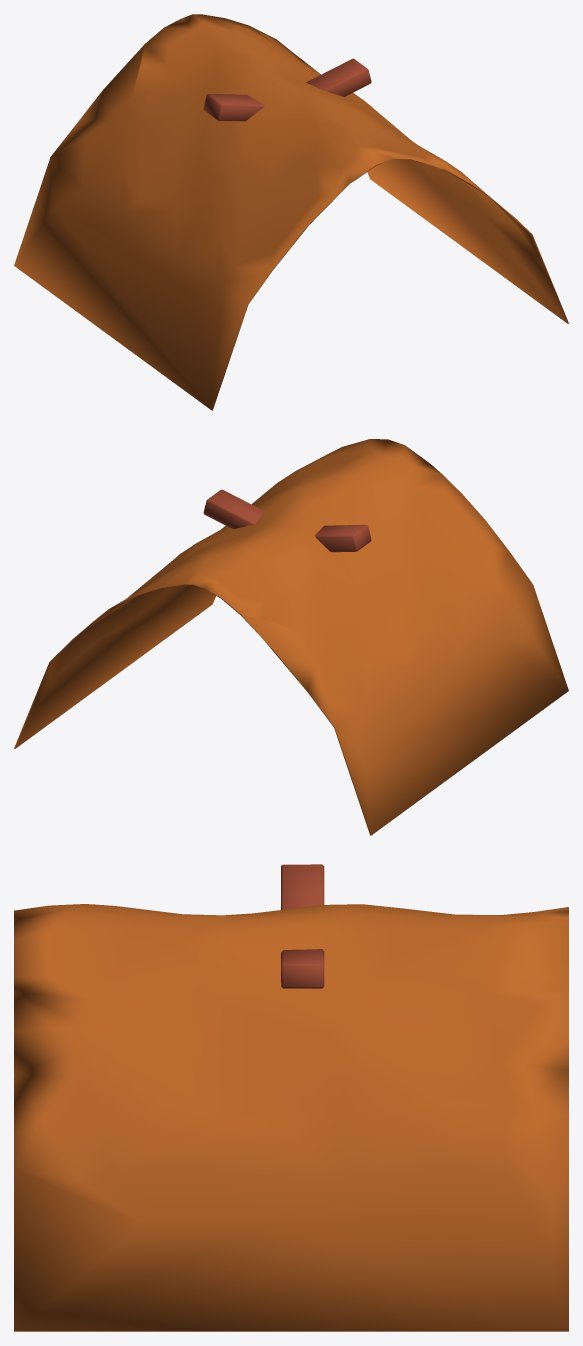
The model's file is bat_o_cho.glb.
3 renders of one model, top to bottom at view 1: azimuth 30°, elevation 25°; view 2: azimuth 150°, elevation 25°; view 3: azimuth 270°, elevation 25°, orthographic. The views are drawn at different scales.
Parts seen in each view (by area): view 1: bat_o_cho; view 2: bat_o_cho; view 3: bat_o_cho.
Boxes of the visible parts, box(x1,y1,x2,y2) form: bat_o_cho: box(14, 14, 568, 410); bat_o_cho: box(14, 439, 568, 835); bat_o_cho: box(14, 864, 568, 1331).
Size of the model in its own units: 1.3 by 0.7355 by 1.25.
